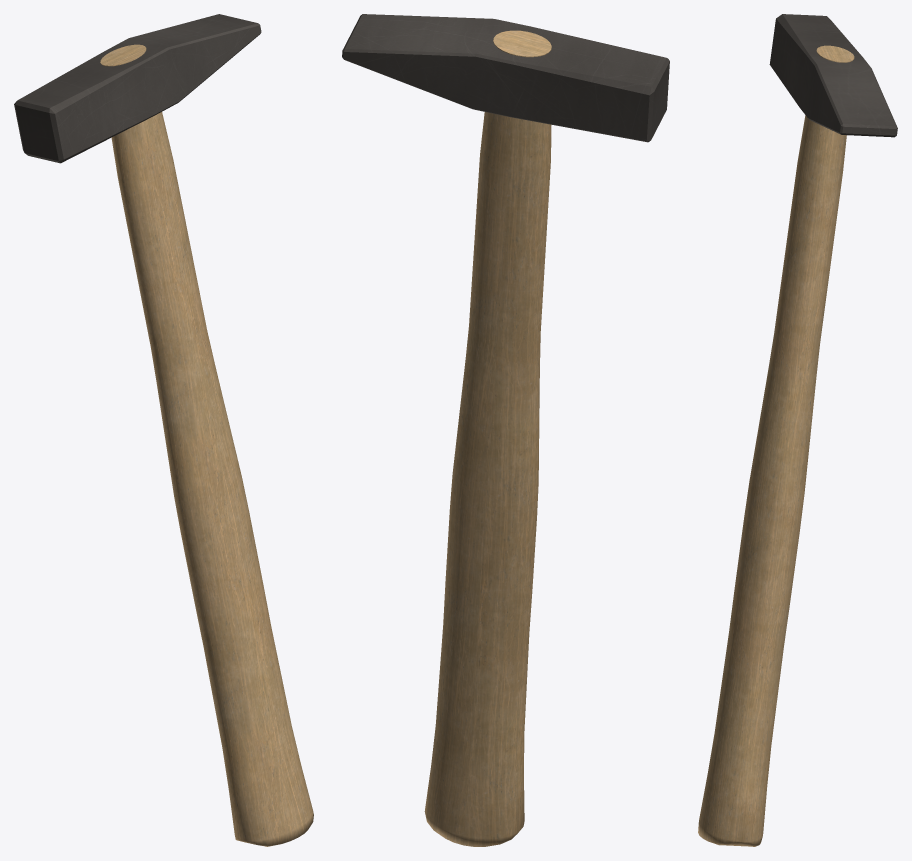
File: Hammer.fbx
The picture shows the model from 3 angles, left to right: view 1: azimuth 30°, elevation 25°; view 2: azimuth 150°, elevation 25°; view 3: azimuth 270°, elevation 25°; orthographic projection. The views are drawn at different scales.
Parts seen in each view (by area): view 1: Hammer; view 2: Hammer; view 3: Hammer.
Boxes of the visible parts, box(x1,y1,x2,y2) form: Hammer: box(14, 14, 313, 846); Hammer: box(342, 14, 669, 846); Hammer: box(698, 14, 897, 846).
Size of the model in its own units: 5.72 by 16.62 by 4.02.
